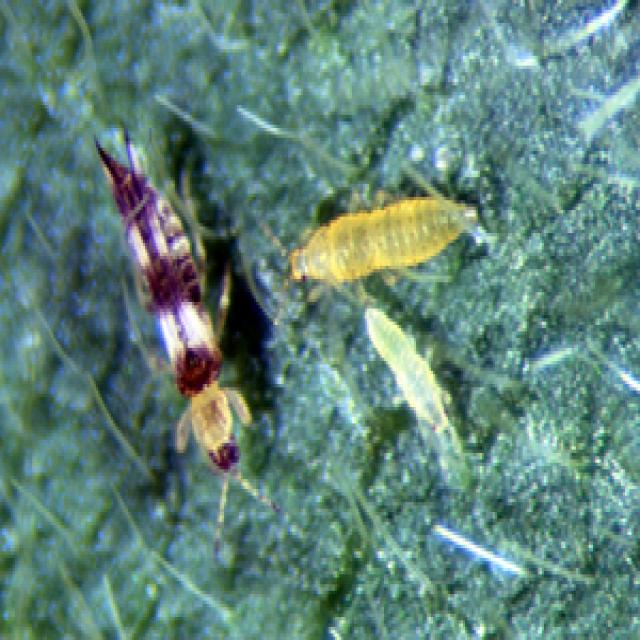Thrip-Adult-: (80, 120, 266, 508)
Thrip-Larva-: (278, 182, 488, 296), (348, 295, 479, 471)
